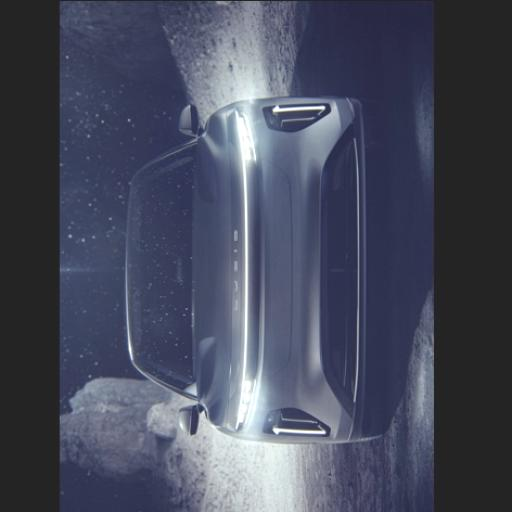suv: (125, 97, 384, 444)
